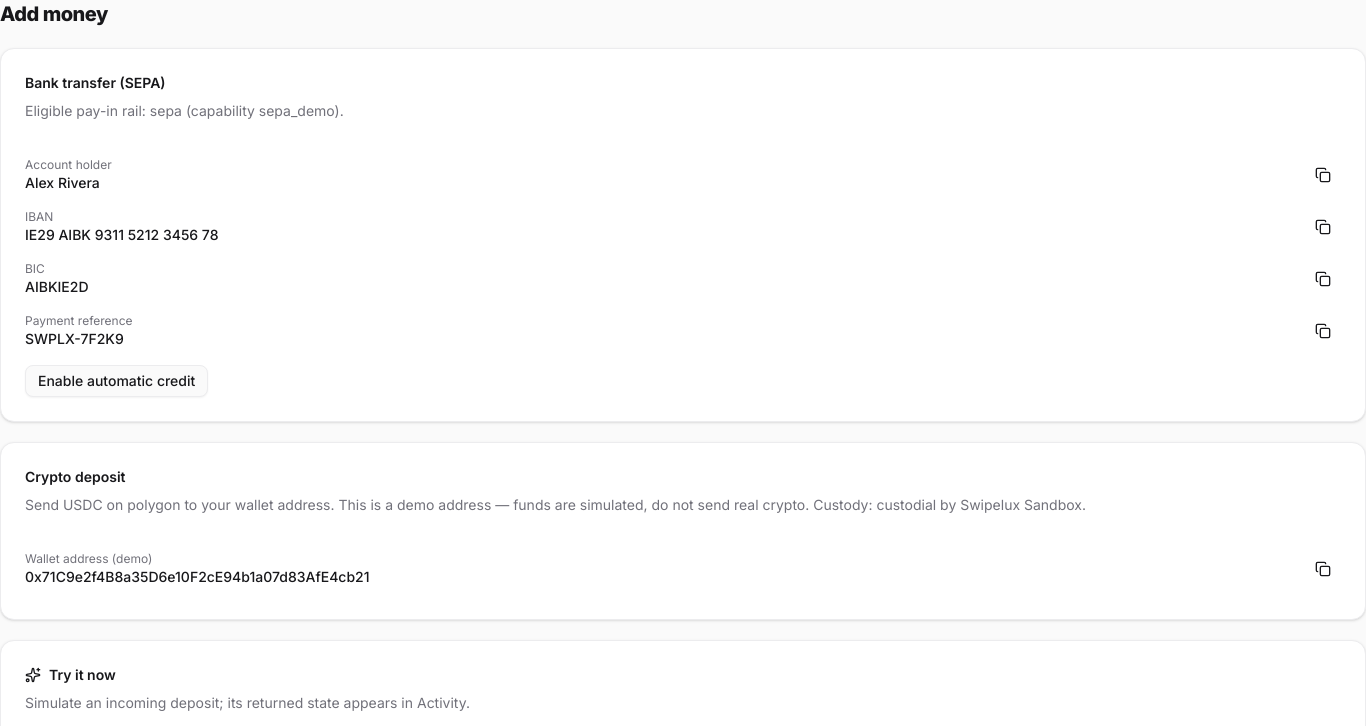
Test case: AddMoney › reports automatic credit only after the provider returns an active rule
This screenshot has width=1366, height=726.
What coordinates should you click on to do the following:
click the button "Enable automatic credit"
I would click on:
 (117, 381)
Its box is [25,365,208,397].
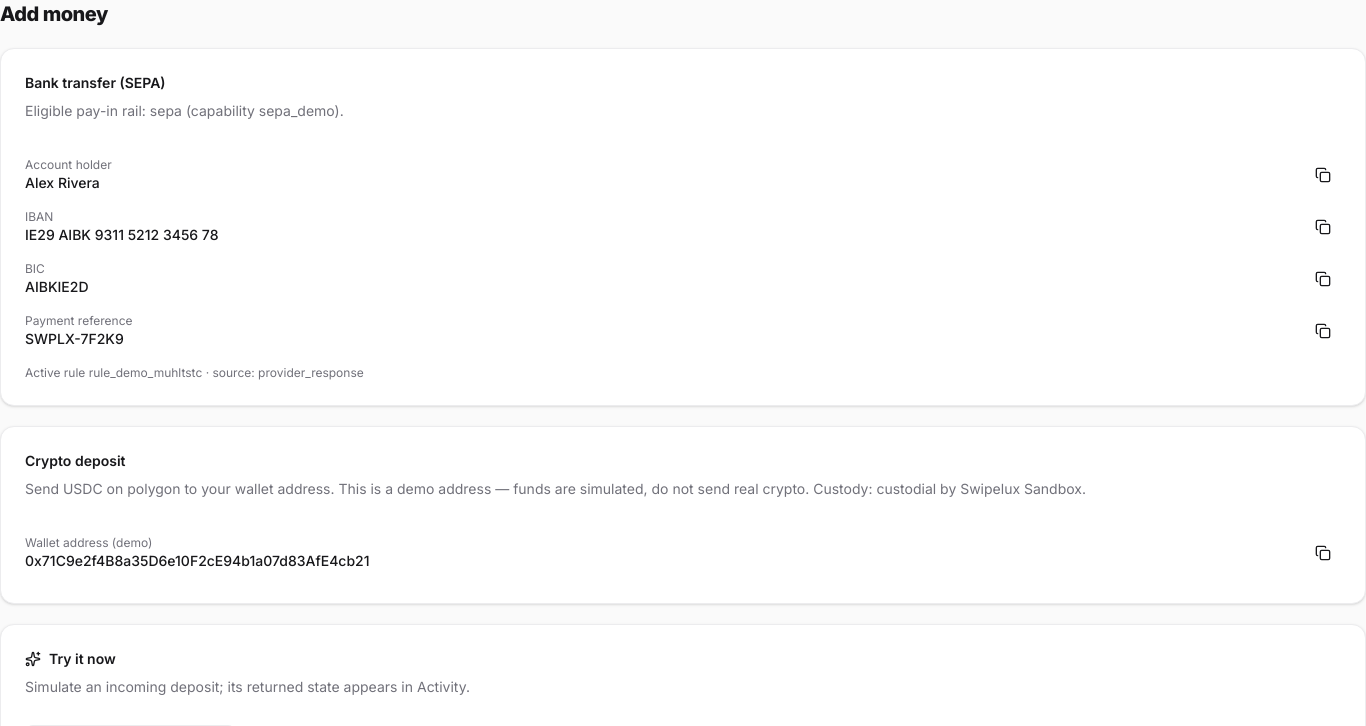
Check: the text "Active rule" is shown, box [25,365,89,380]
Check: the text "source: provider_response" is shown, box [25,365,364,380]
